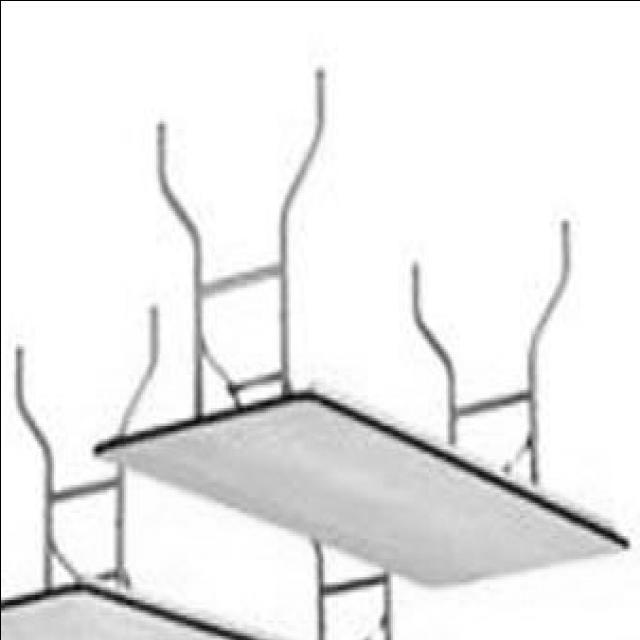table: (94, 68, 618, 590)
